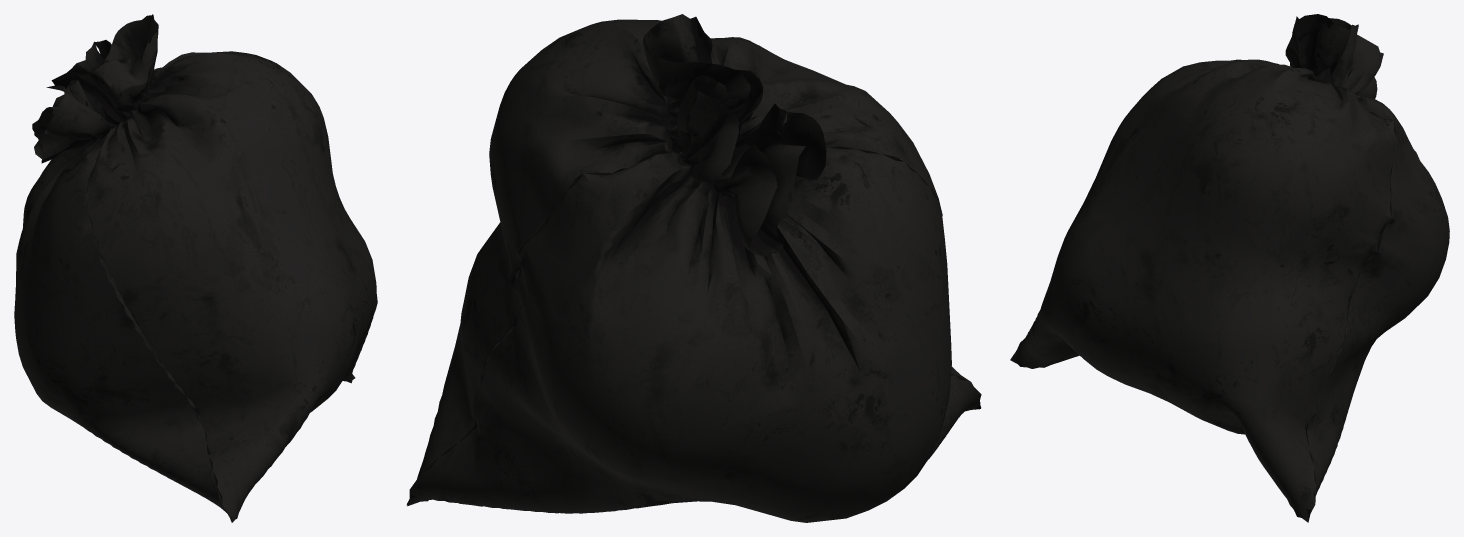
The model's file is trashbag.glb.
The picture shows the model from 3 angles, left to right: view 1: azimuth 30°, elevation 25°; view 2: azimuth 150°, elevation 25°; view 3: azimuth 270°, elevation 25°; orthographic projection. The views are drawn at different scales.
Visible parts, largest first — view 1: trashbag.001; view 2: trashbag.001; view 3: trashbag.001.
Boxes of the visible parts, box(x1,y1,x2,y2) form: trashbag.001: box(14, 14, 377, 522); trashbag.001: box(406, 14, 981, 522); trashbag.001: box(1010, 14, 1449, 522).
Size of the model in its own units: 0.3481 by 0.3805 by 0.3687.
1 material, 1 textured.
